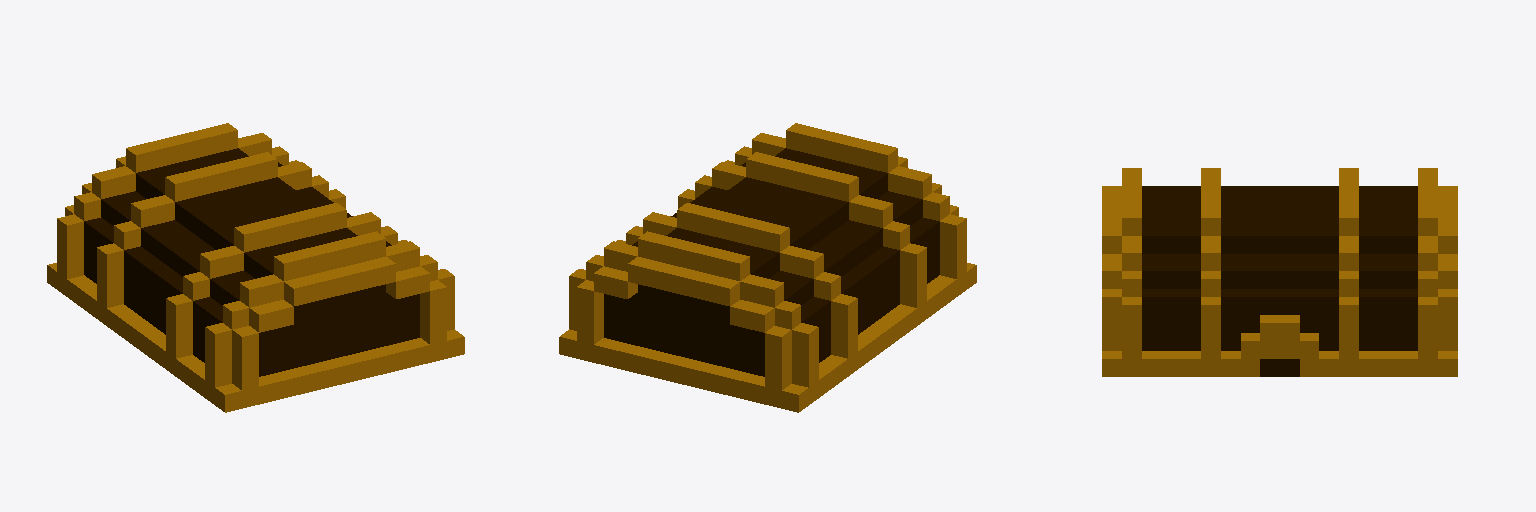
3 views of the same model, side by side, from view 1: azimuth 30°, elevation 25°; view 2: azimuth 150°, elevation 25°; view 3: azimuth 270°, elevation 25° (orthographic).
Parts seen in each view (by area): view 1: Matrix_part; view 2: Matrix_part; view 3: Matrix_part.
Part boxes in pixels (bbox=[...]): Matrix_part: bbox=[47, 123, 464, 412]; Matrix_part: bbox=[559, 123, 976, 412]; Matrix_part: bbox=[1102, 168, 1457, 376].
Bounding box in the file's own units: 14 × 7 × 18.
1 materials, 1 textured.